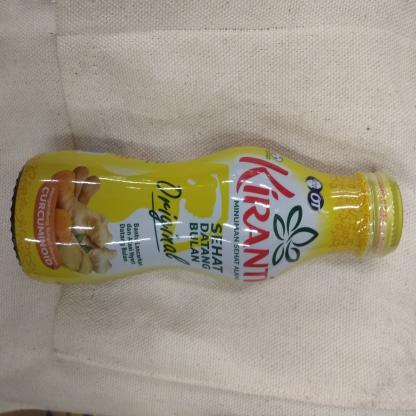bottle: (8, 137, 407, 291)
